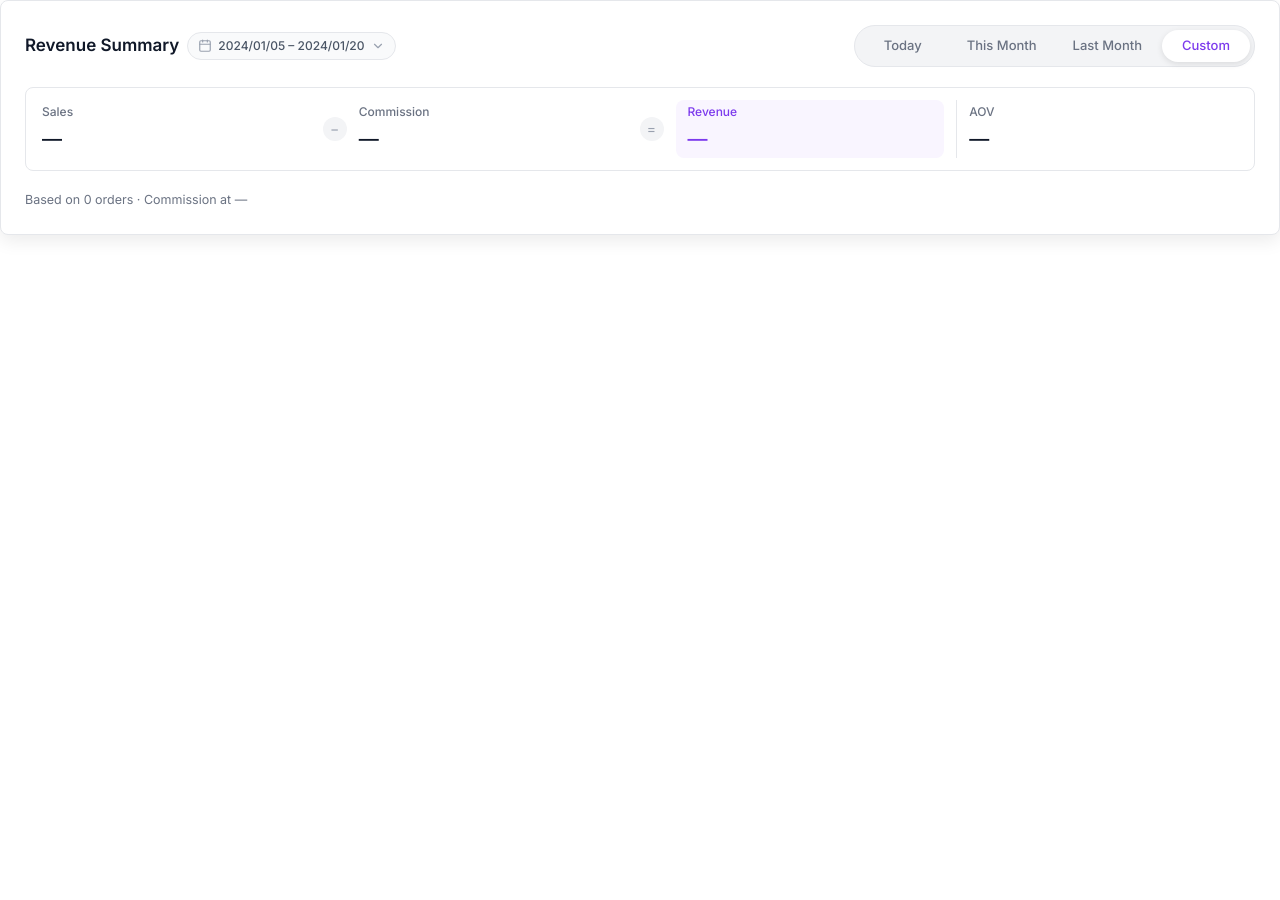
Test: RevenueSummaryGroup › reopens the modal from the applied custom range pill
The width and height of the screenshot is (1280, 900).
Expected: the text "2024/01/05 – 2024/01/20" is shown, [218,37,364,55]
Click the button "2024/01/05 – 2024/01/20".
click(291, 46)  # box [187,32,396,60]
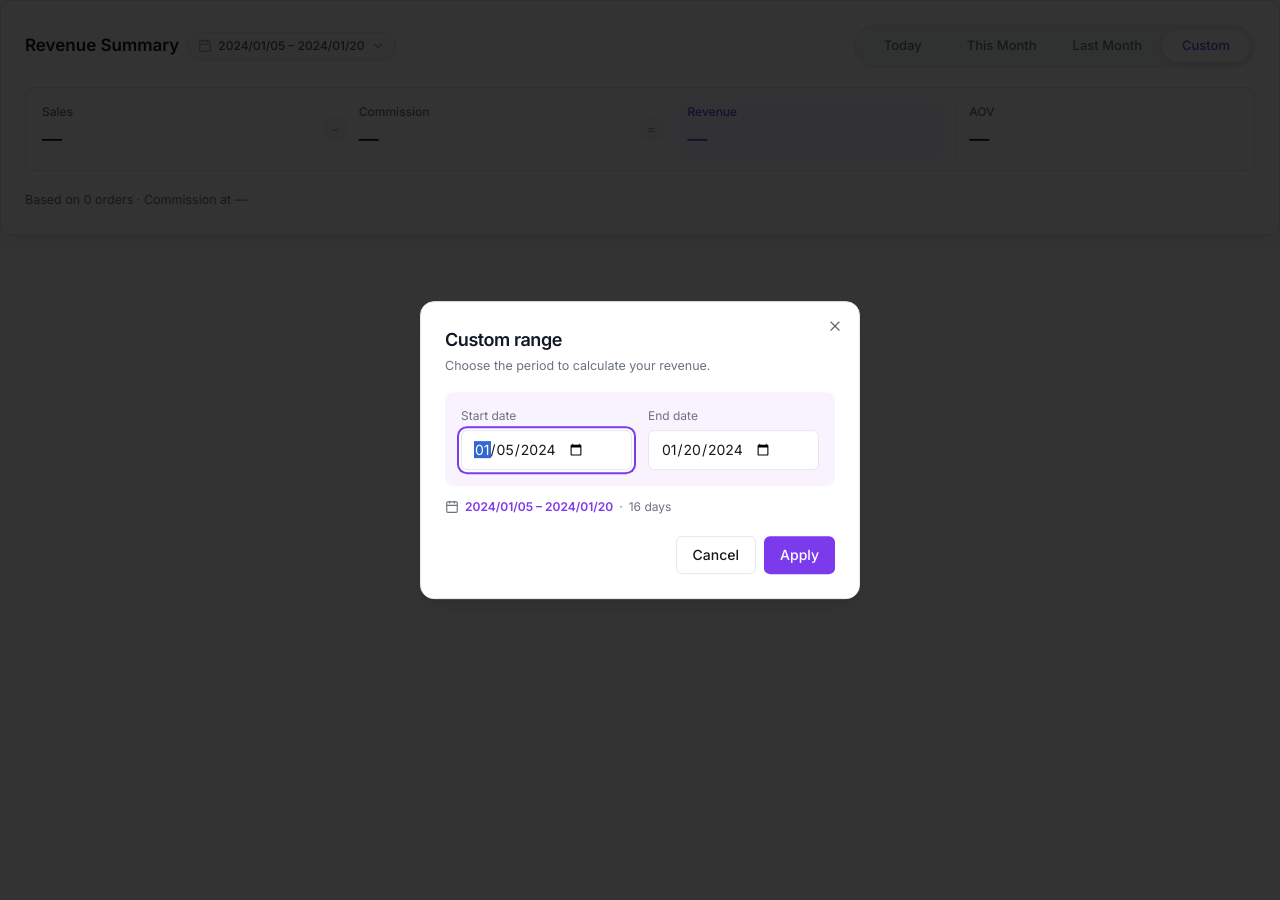
Result: the dialog "Custom range" is shown at [420,301,860,599]
Result: the date field labelled "Start date" holds "2024-01-05" at [461,430,632,470]
Result: the date field labelled "End date" holds "2024-01-20" at [648,430,819,470]
